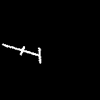double_crochet: (2, 44, 40, 62)
